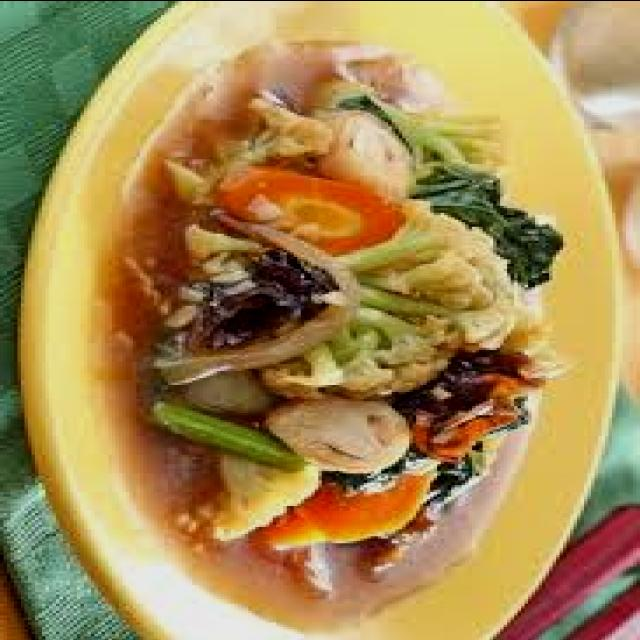capcay: (112, 40, 563, 619)
